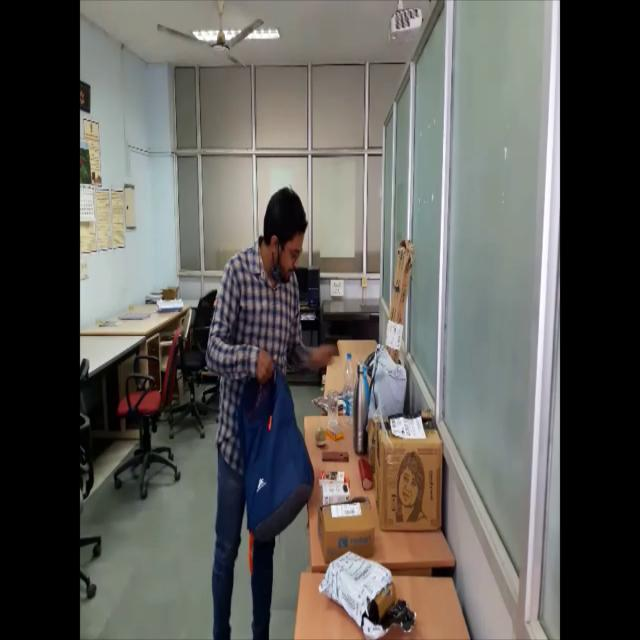shoplifting: (202, 182, 324, 640)
